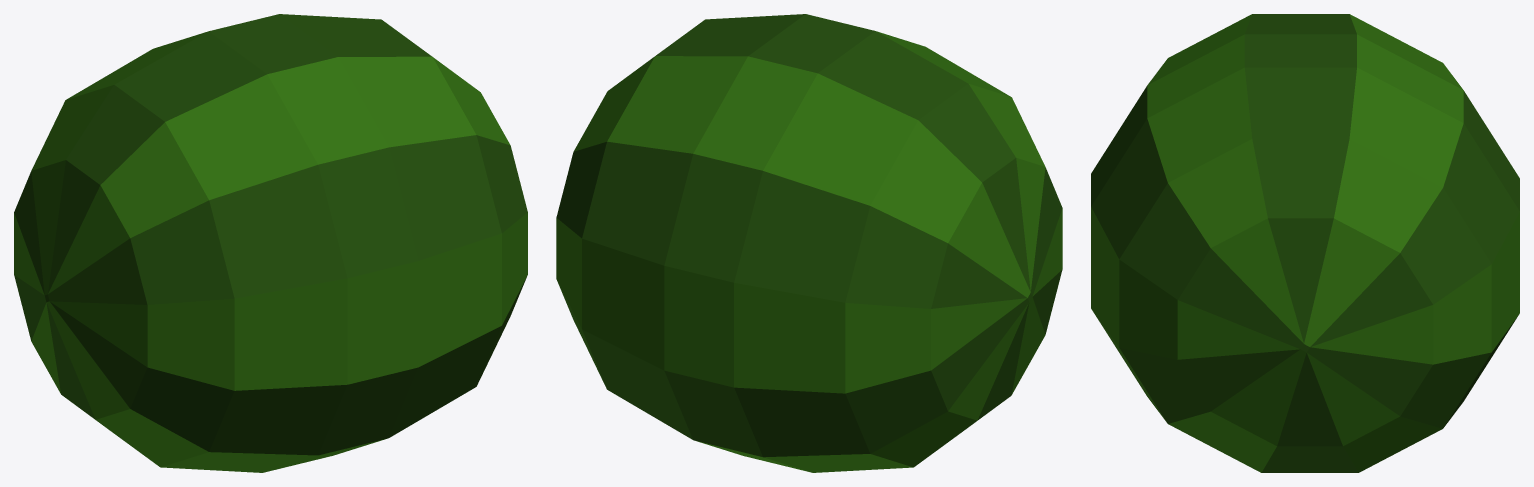
The model's file is Meloen_Model.FBX.
The picture shows the model from 3 angles, left to right: view 1: azimuth 30°, elevation 25°; view 2: azimuth 150°, elevation 25°; view 3: azimuth 270°, elevation 25°; orthographic projection. The views are drawn at different scales.
Visible parts, largest first — view 1: Meloen_Model; view 2: Meloen_Model; view 3: Meloen_Model.
Part boxes in pixels (x1,y1,x2,y2): Meloen_Model: [14, 14, 527, 472]; Meloen_Model: [556, 14, 1062, 472]; Meloen_Model: [1091, 14, 1519, 472].
Size of the model in its own units: 3247 by 2813 by 2787.
